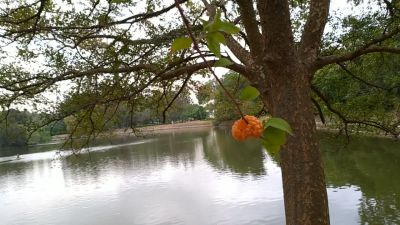eggs: (231, 114, 265, 143)
